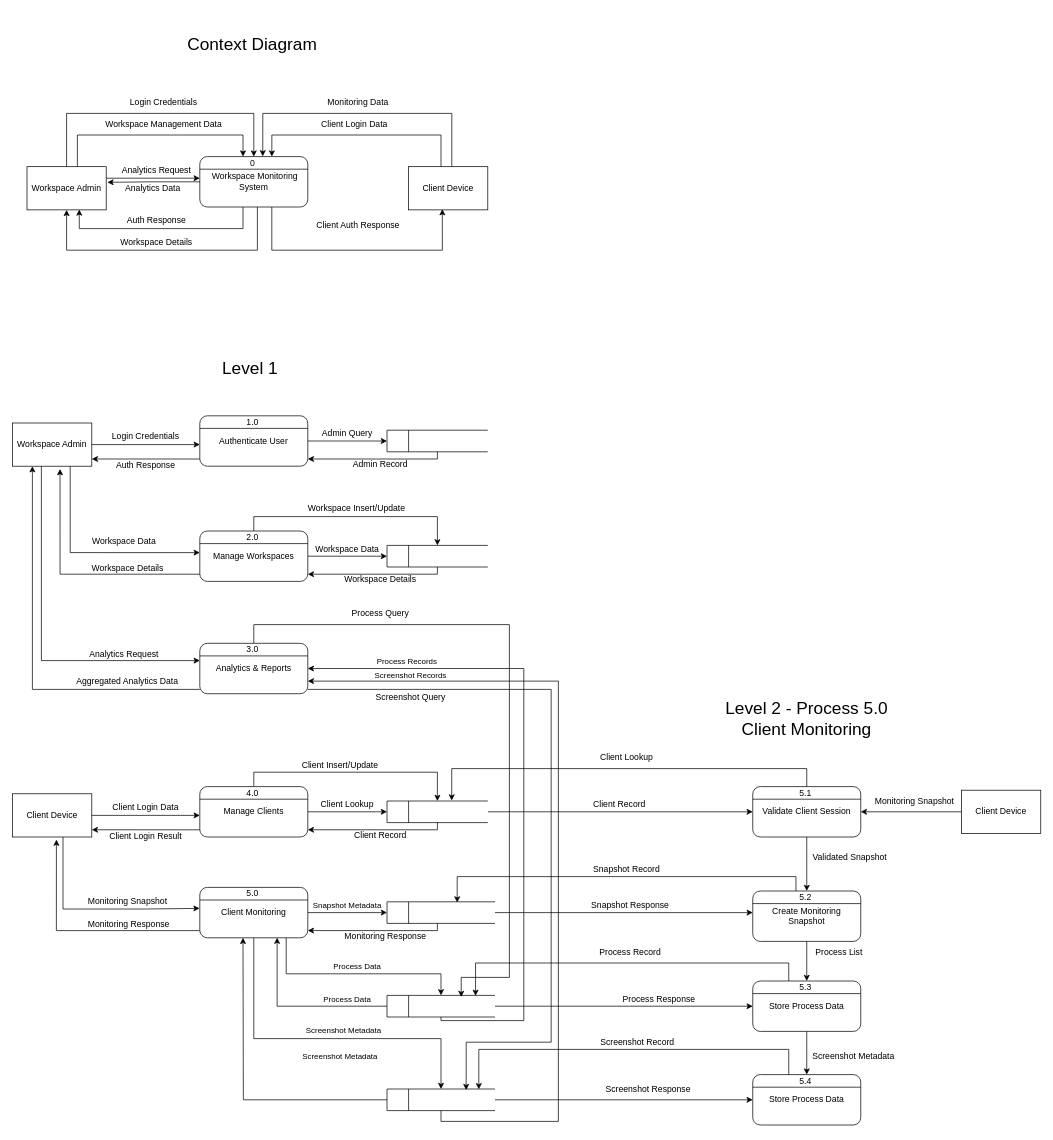
Some shapes in this 1053 by 1140 pixel diagram are drawn without their labels. The shapes that lost their labels are listed below. From the top down, each one's centre as x and y in pixels, then its label:
[437,440]: D1 Workspace Admins
[437,556]: D2 Workspaces
[437,811]: D3 Clients
[440,912]: D4 Monitoring Snapshots
[440,1006]: D5 Processes
[440,1099]: D6 Screenshots
